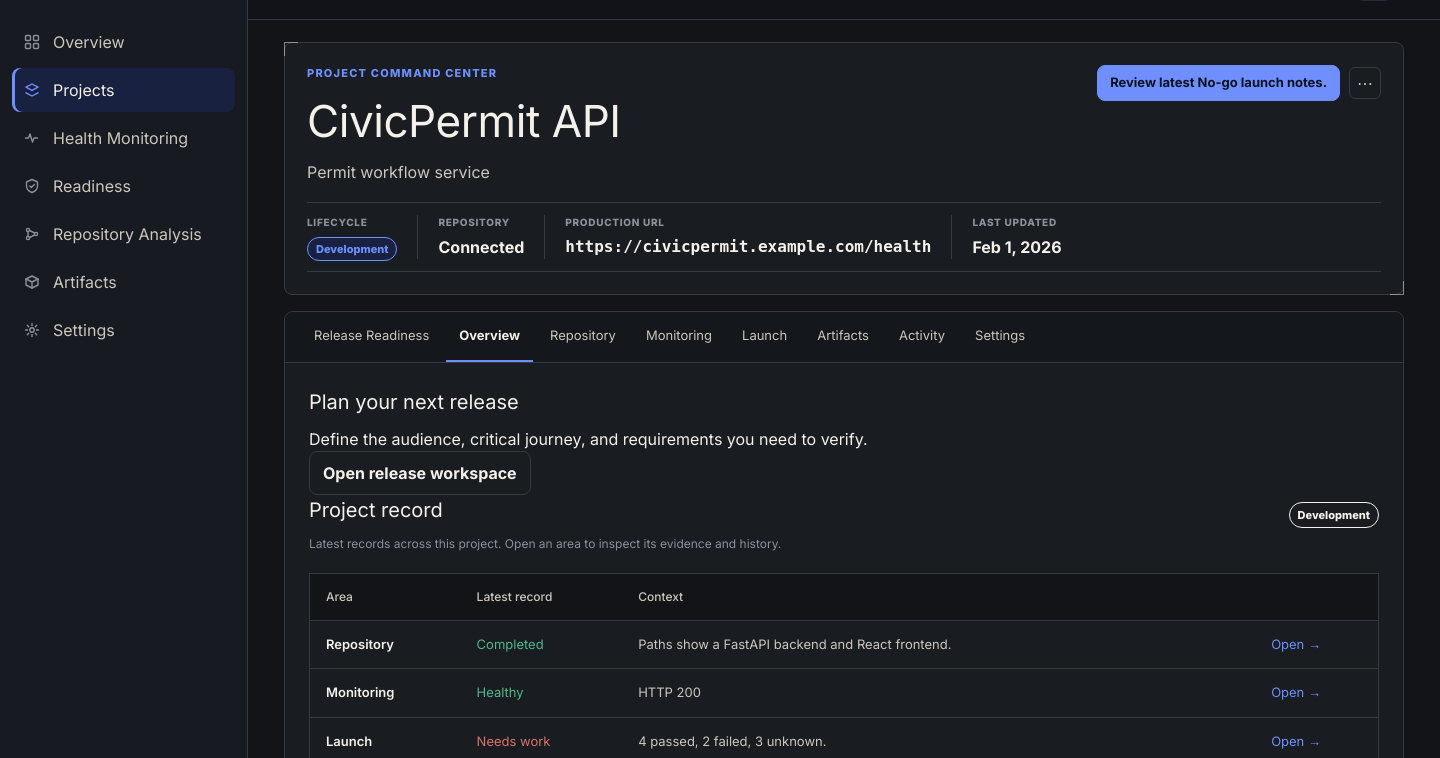
it: Project detail unified command center › shows the guided launch checklist with status counts and action targets
Step 1. Click the link "Launch" → x=765, y=335, box [742,327,787,343]
(page scrolled)
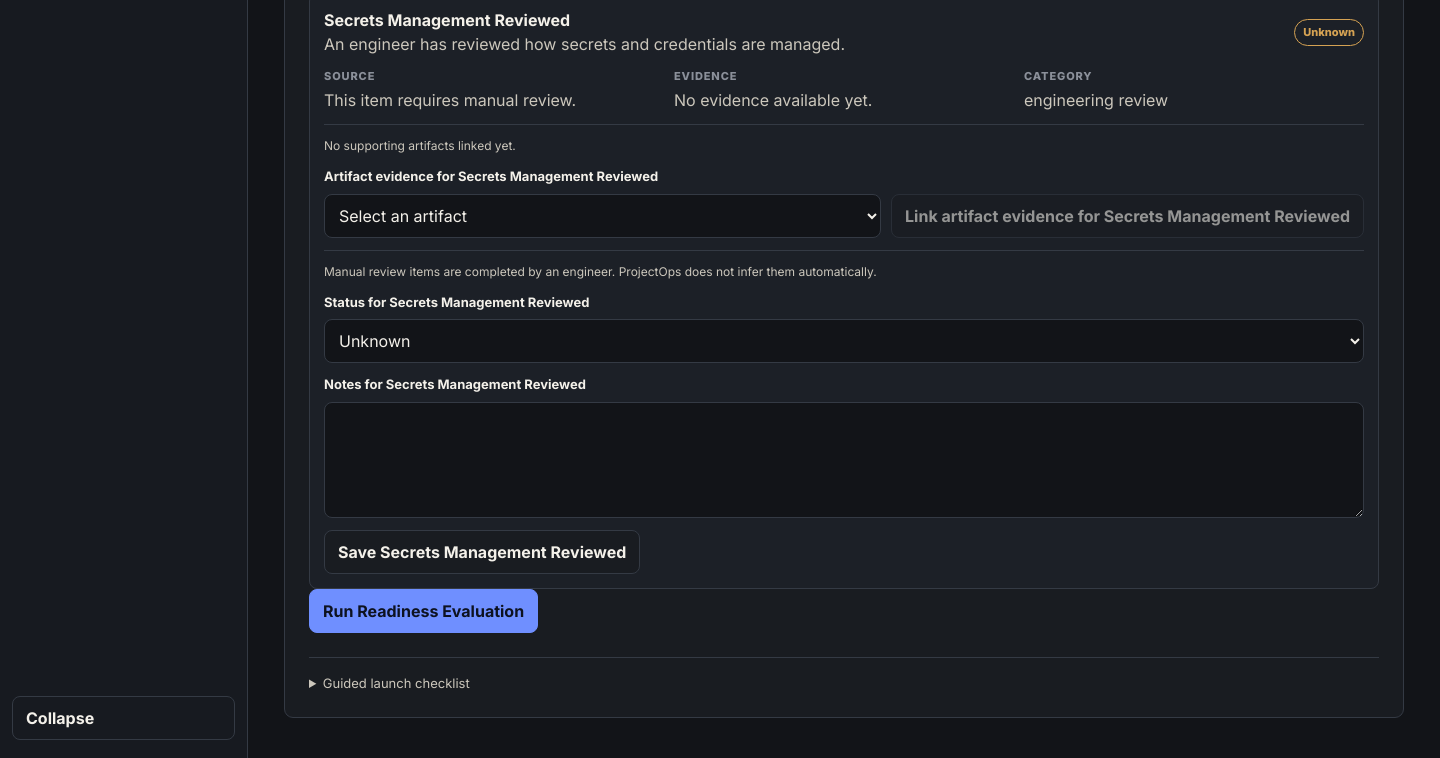
Step 2. Click the heading "Guided launch checklist" → x=396, y=683, box [323,675,470,691]
(page scrolled)
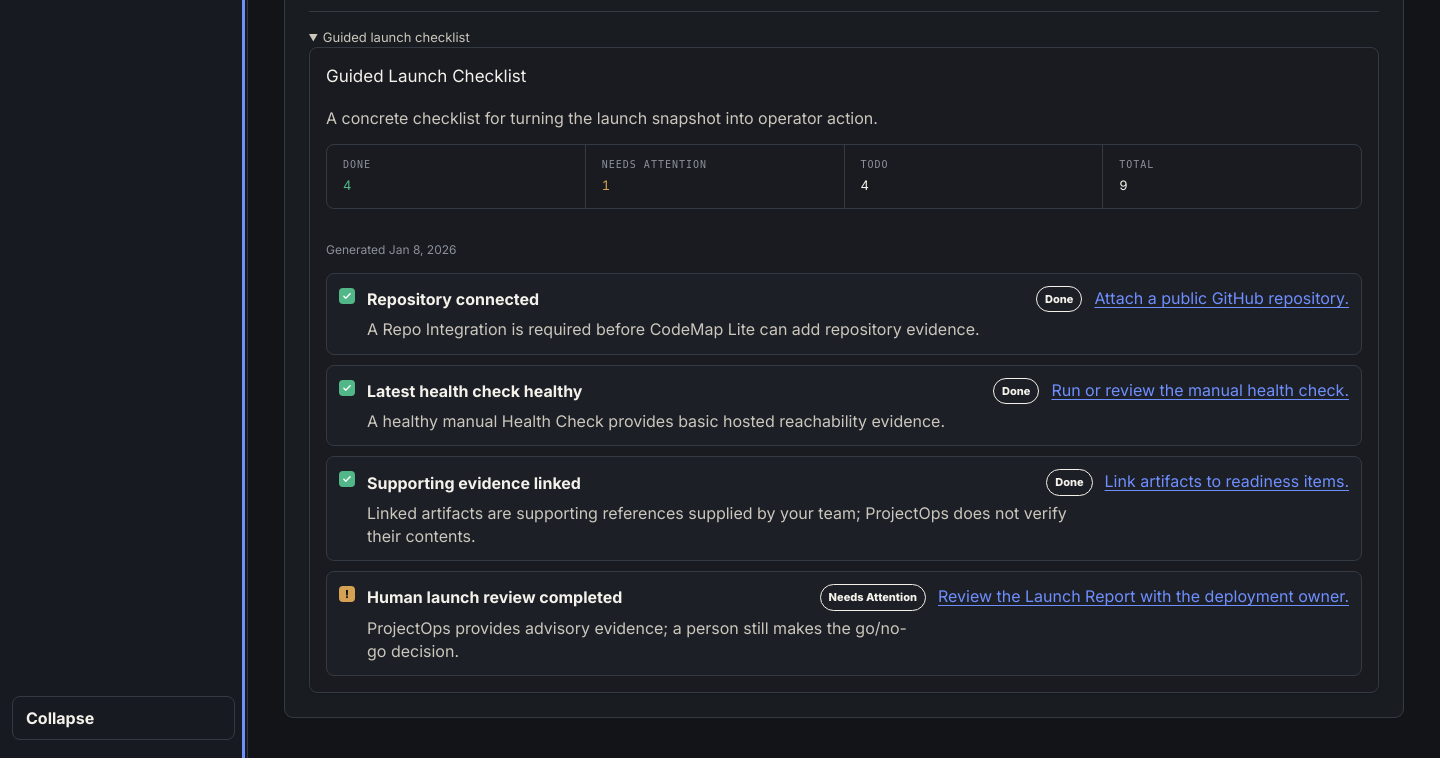
Expected: the text "Done" shows "4", [343,177,351,193]
Expected: the text "Needs attention" shows "1", [602,177,610,193]
Expected: the text "Todo" shows "4", [860,177,869,193]
